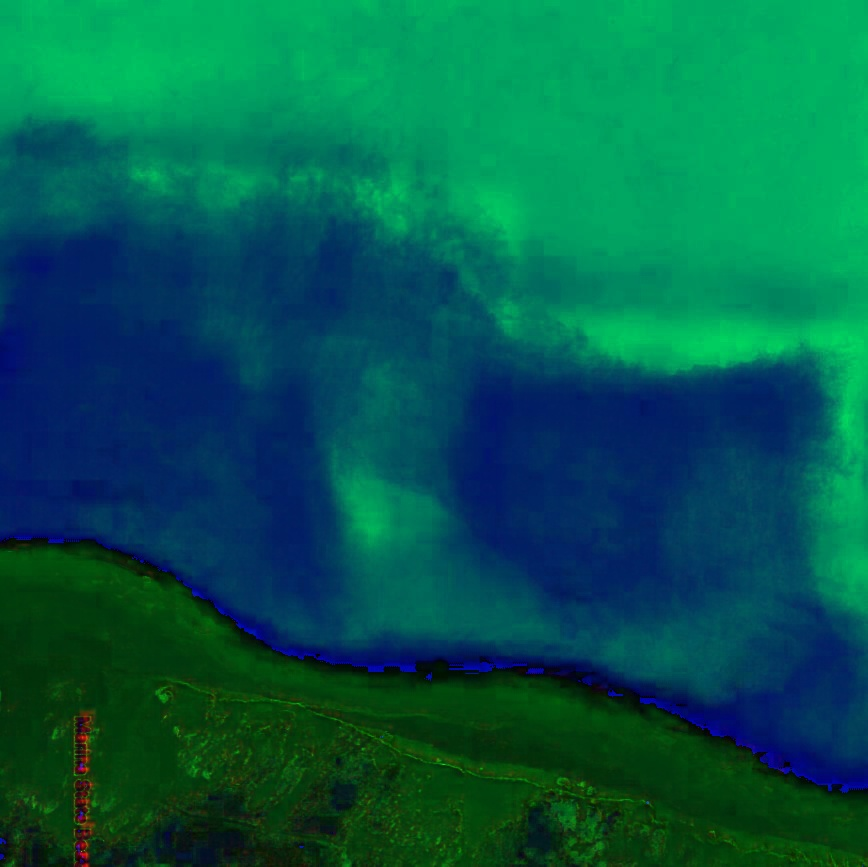rip_current: (232, 136, 554, 634)
